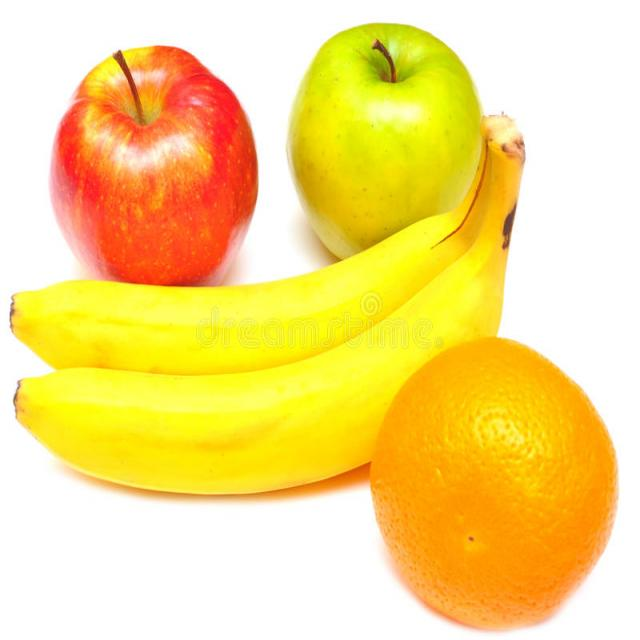apple: (45, 43, 257, 292), (285, 21, 487, 267)
banana: (6, 121, 527, 489)
orange: (381, 336, 618, 632)
